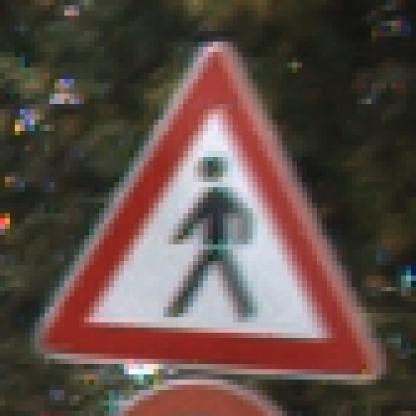crosswalk: (46, 59, 392, 384)
